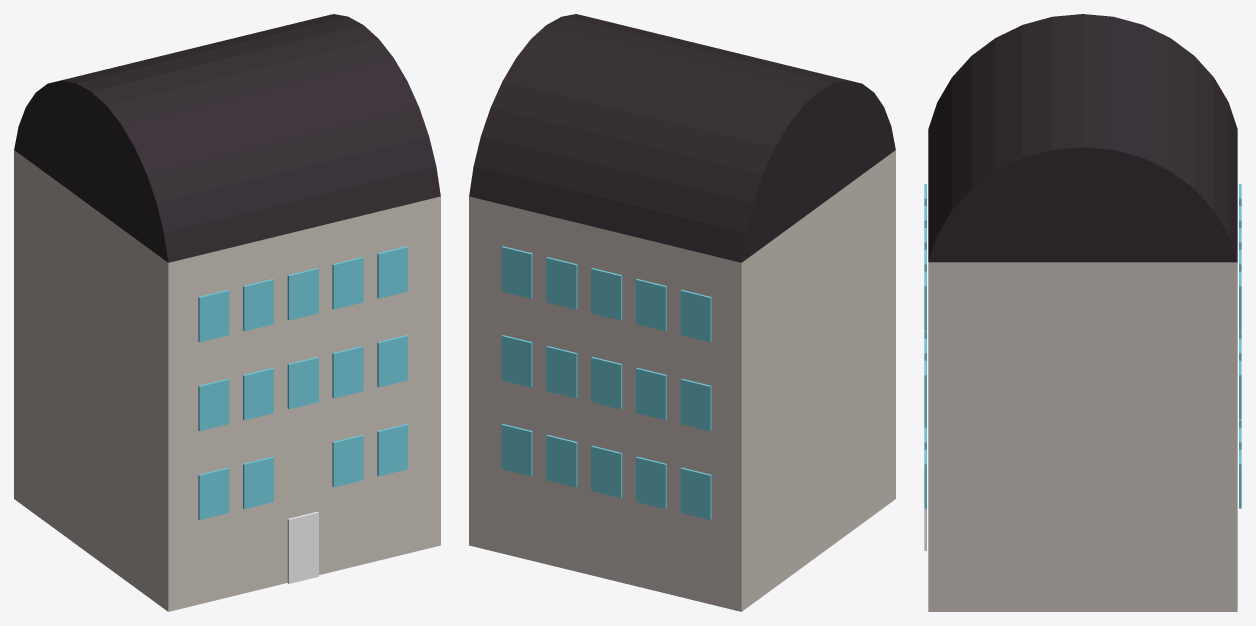
File: Building_RoundTop.fbx
3 views of the same model, side by side, from view 1: azimuth 30°, elevation 25°; view 2: azimuth 150°, elevation 25°; view 3: azimuth 270°, elevation 25° (orthographic).
Visible parts, largest first — view 1: Cylinder, Cube, Cube.002; view 2: Cylinder, Cube; view 3: Cylinder, Cube.
Part boxes in pixels (left/top/right/bottom): Cylinder: left=14, top=14, right=440, bottom=611; Cube: left=198, top=246, right=408, bottom=519; Cube.002: left=287, top=511, right=318, bottom=583; Cylinder: left=469, top=14, right=895, bottom=611; Cube: left=501, top=246, right=711, bottom=519; Cylinder: left=928, top=14, right=1237, bottom=611; Cube: left=924, top=184, right=1241, bottom=508.
Size of the model in its own units: 200 by 325 by 201.
